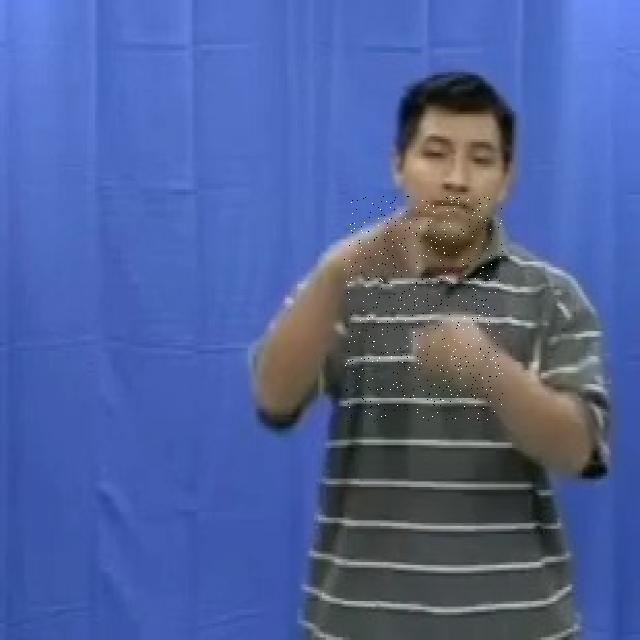coke: (344, 196, 503, 422)
